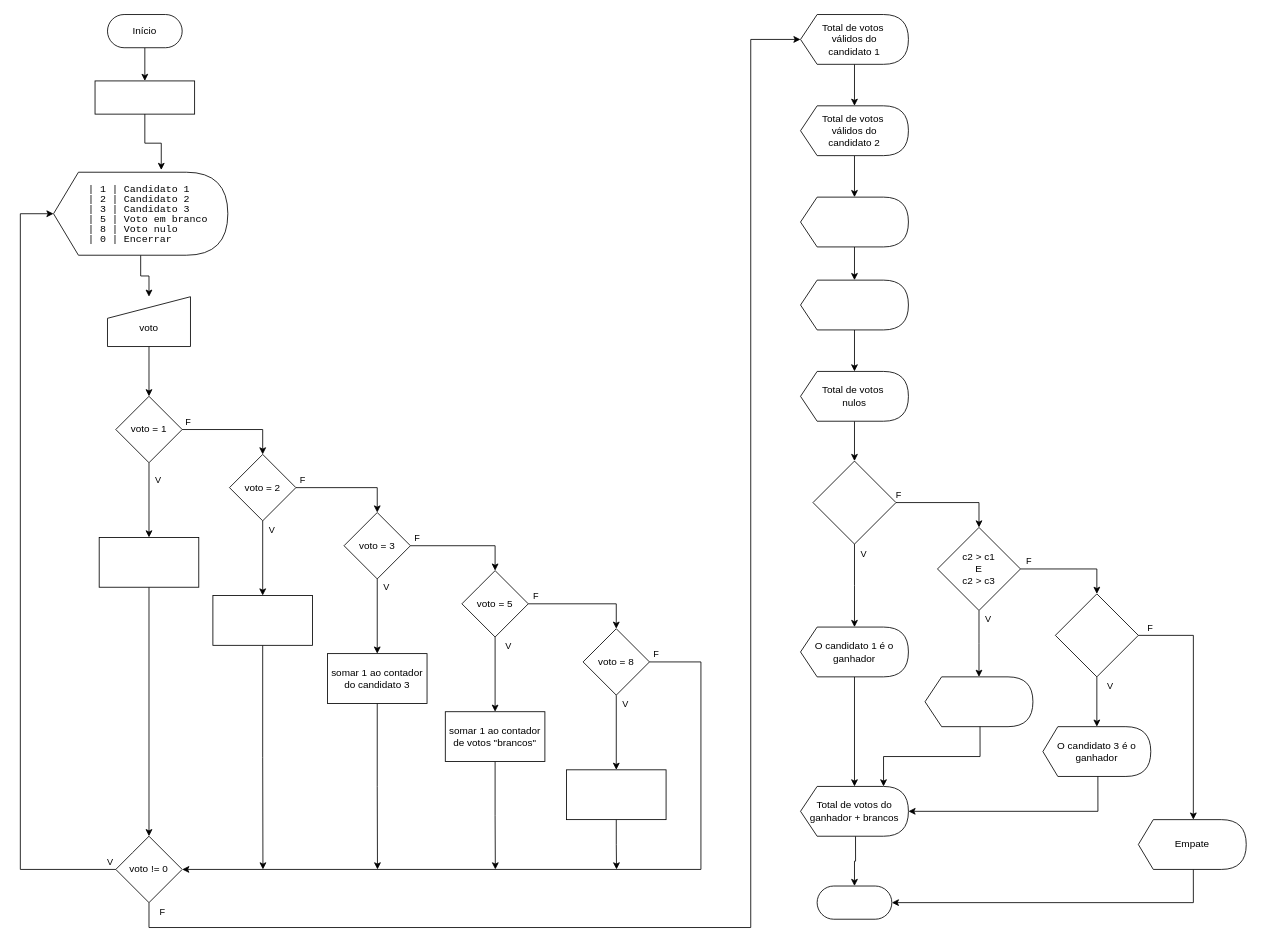
This 1261x949 diagram has some shape labels left out. Each missing label, with the centre of its shape:
c1 > c2 E c1 > c3: the point at 854,502
c3 > c1 E c3 > c2: the point at 1096,635
Fim: the point at 854,902
O candidato 2 é o ganhador: the point at 978,701
somar 1 ao contador de votos "nulos": the point at 616,794
somar 1 ao contador do candidato 1: the point at 148,562
somar 1 ao contador do candidato 2: the point at 262,620
Total de votos em branco: the point at 854,304
Total de votos válidos do candidato 3: the point at 854,221
Zerar os contadores: the point at 144,97
